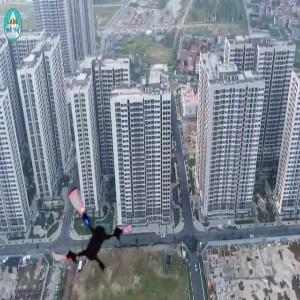drone: (43, 186, 138, 281)
